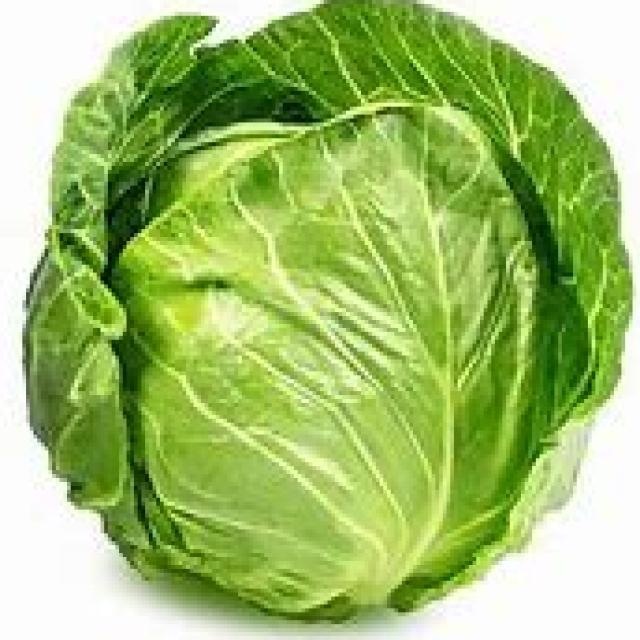cabbage: (117, 105, 538, 618)
